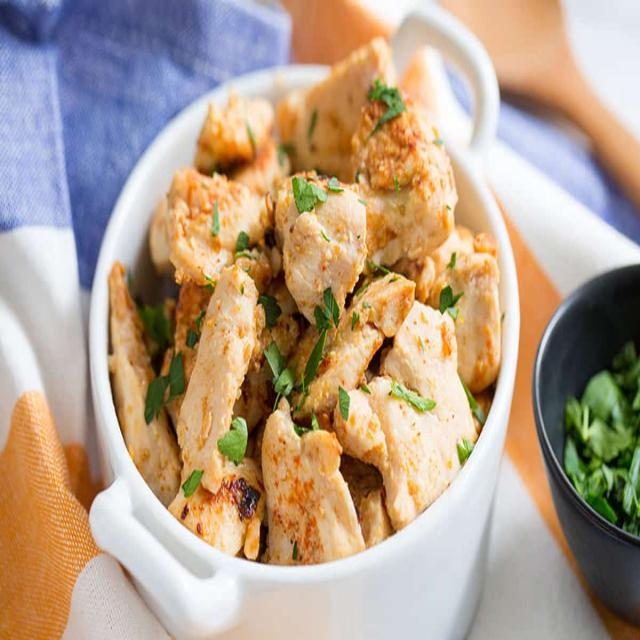pollo: (86, 25, 518, 596)
